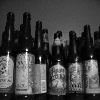beer: (17, 8, 38, 100)
